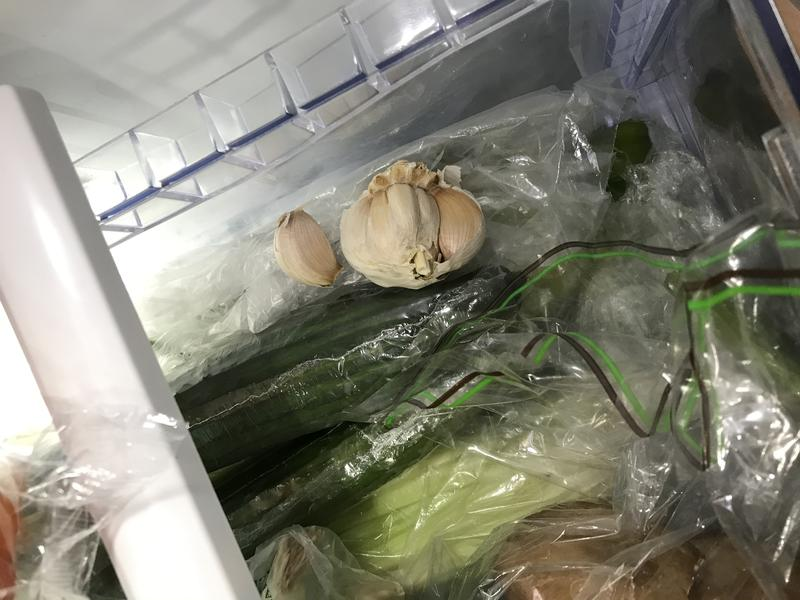garlic: (339, 158, 495, 292), (271, 203, 342, 297)
